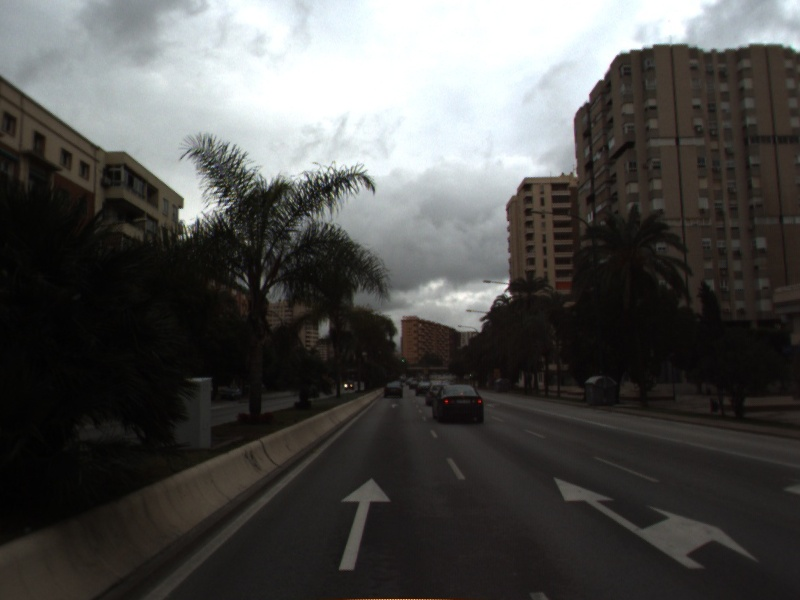STRAIGHT: (335, 475, 394, 573)
STRAIGHT_RIGHT: (551, 475, 761, 571)
